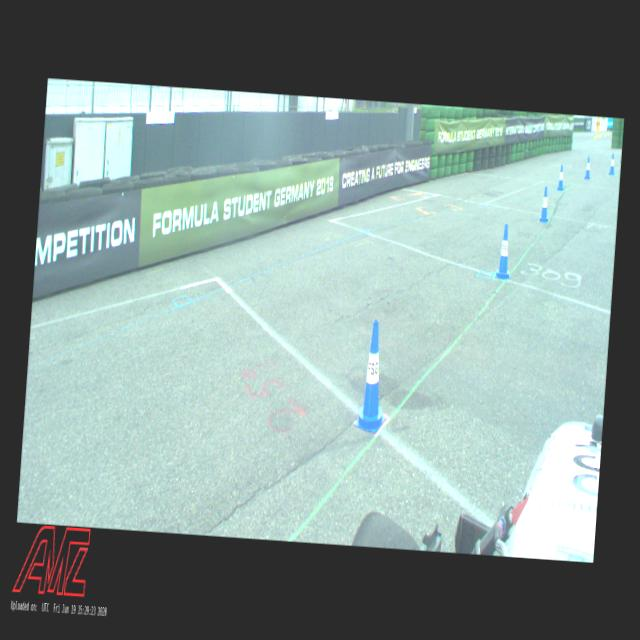blue_cone: (353, 319, 392, 434), (493, 223, 512, 280), (538, 186, 550, 222), (556, 164, 564, 190), (608, 153, 616, 175), (584, 156, 591, 179)
